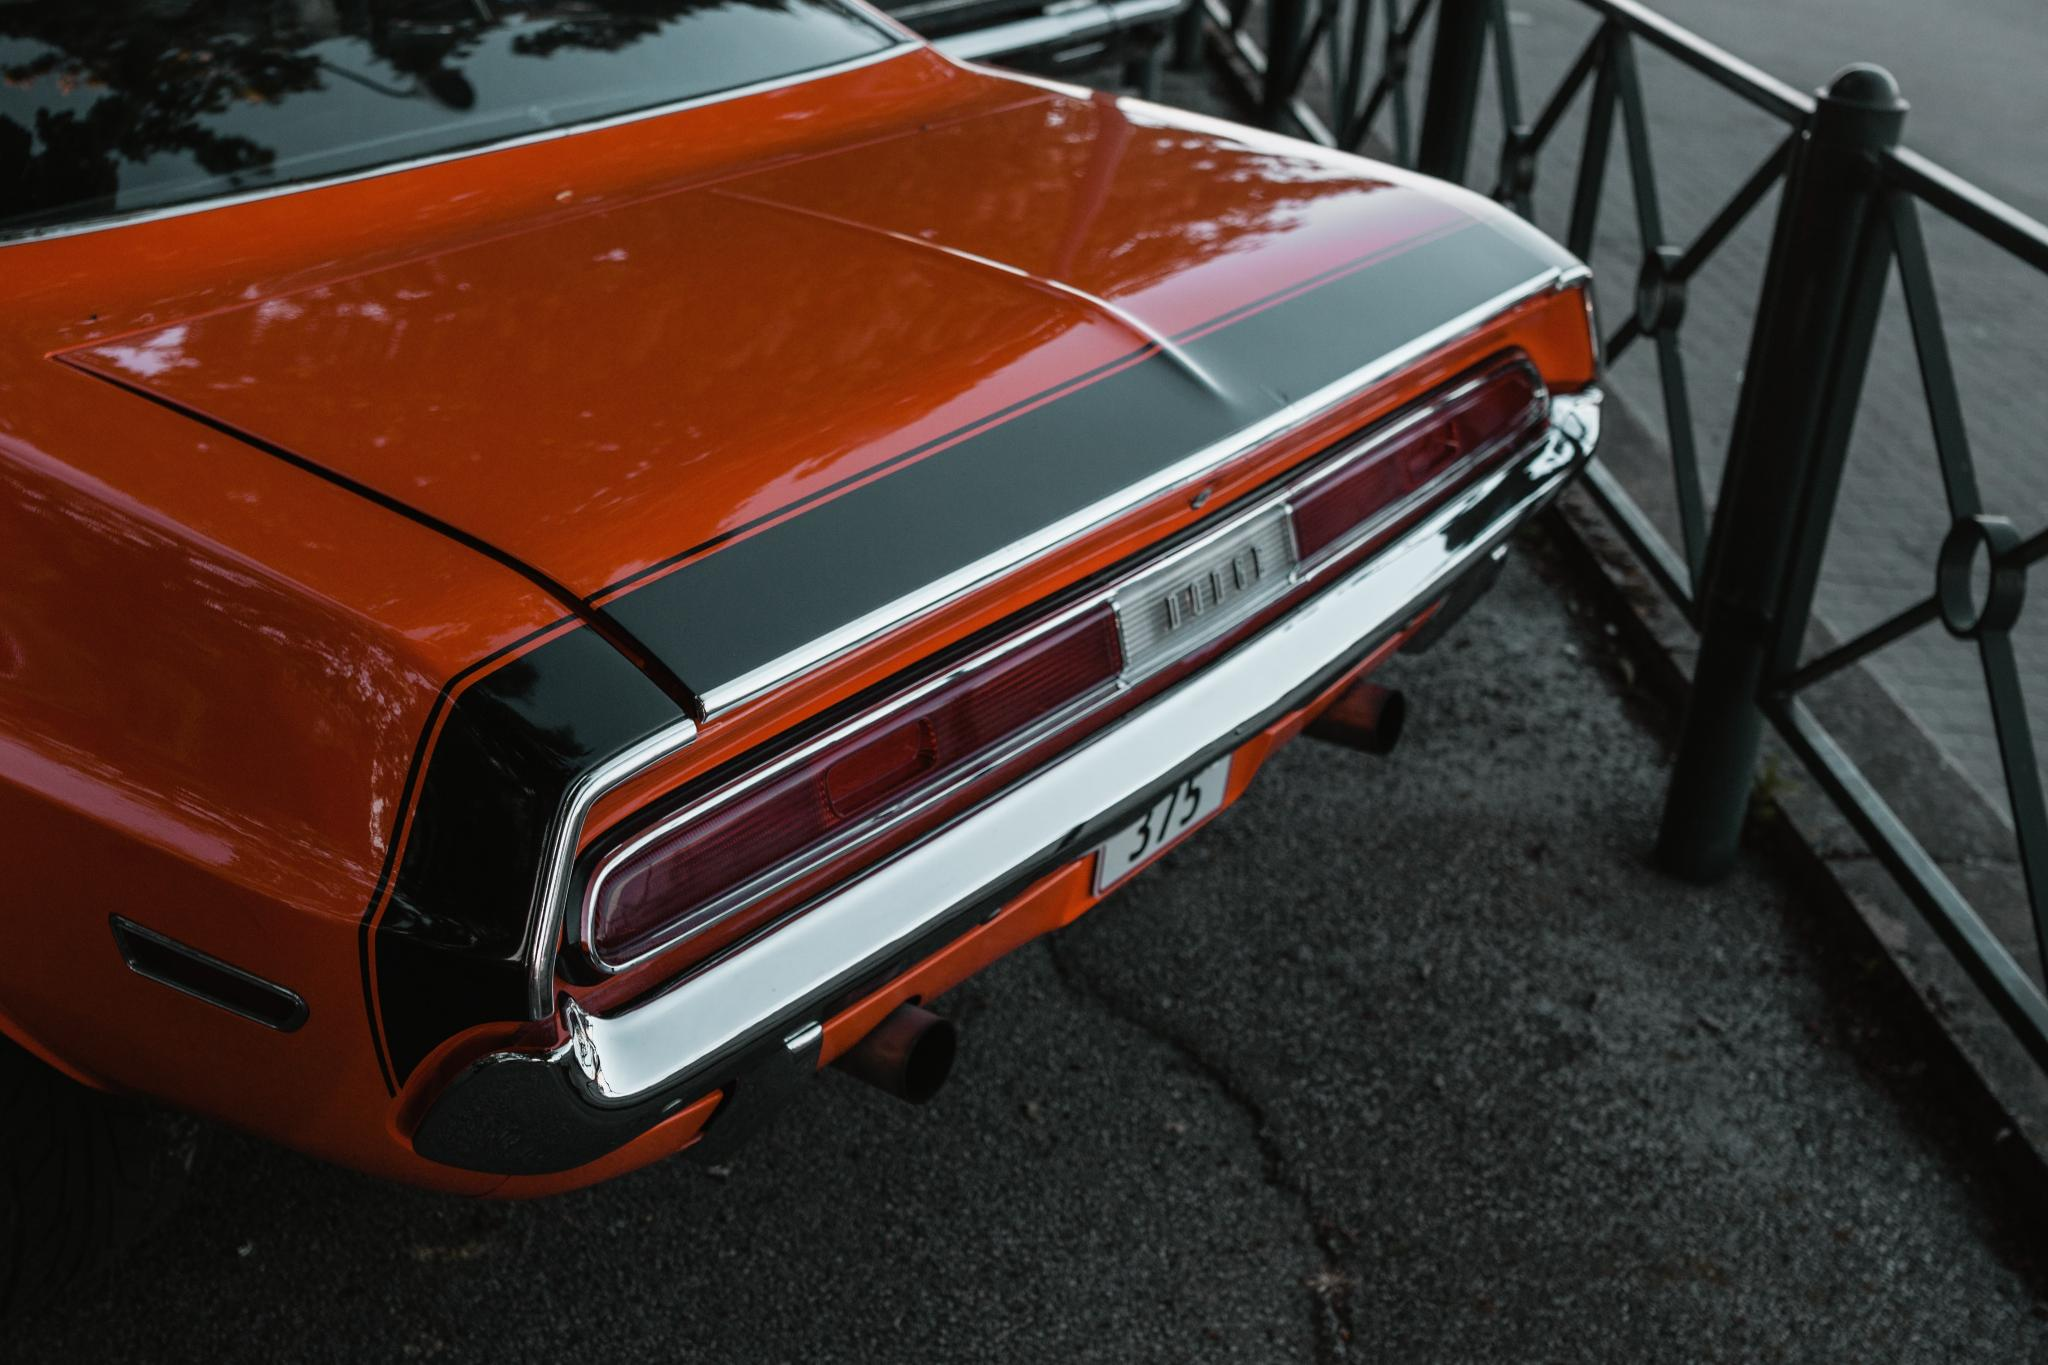dodge: (1131, 527, 1285, 669)
